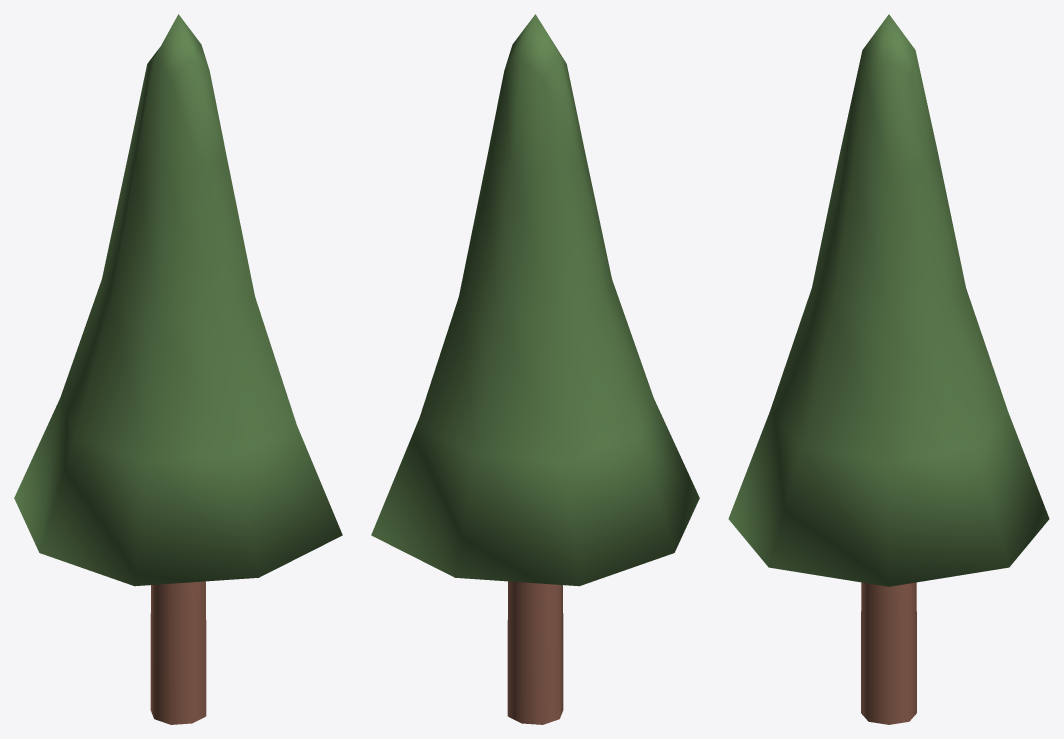
File: TreeLarge.fbx
3 views of the same model, side by side, from view 1: azimuth 30°, elevation 25°; view 2: azimuth 150°, elevation 25°; view 3: azimuth 270°, elevation 25° (orthographic).
Parts seen in each view (by area): view 1: TreeLarge; view 2: TreeLarge; view 3: TreeLarge.
Boxes of the visible parts, left/top/right/bottom form: TreeLarge: left=14, top=14, right=342, bottom=724; TreeLarge: left=371, top=14, right=699, bottom=724; TreeLarge: left=728, top=14, right=1049, bottom=724.
Bounding box in the file's own units: 224 × 224 × 539.
